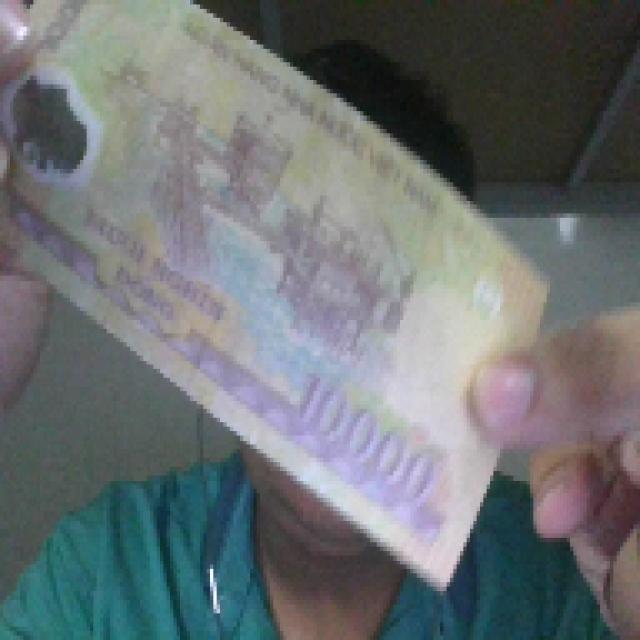10 000 VND: (0, 0, 553, 595)
